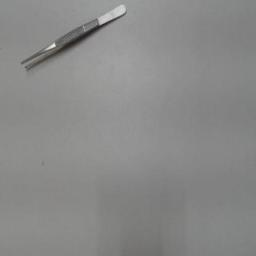Gillies Toothed Dissector: (18, 2, 130, 76)
